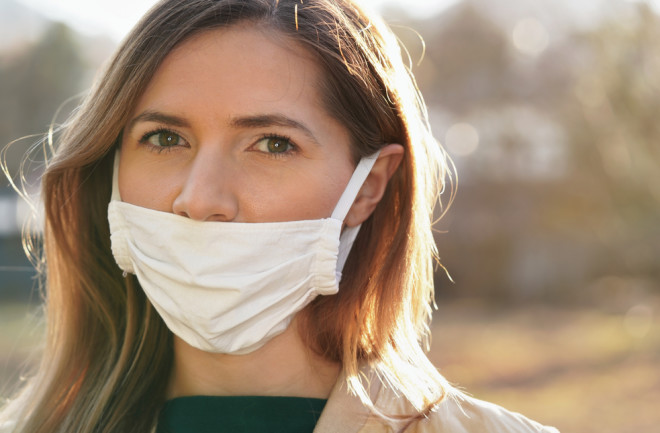with_incorrect_mask: (131, 79, 339, 320)
